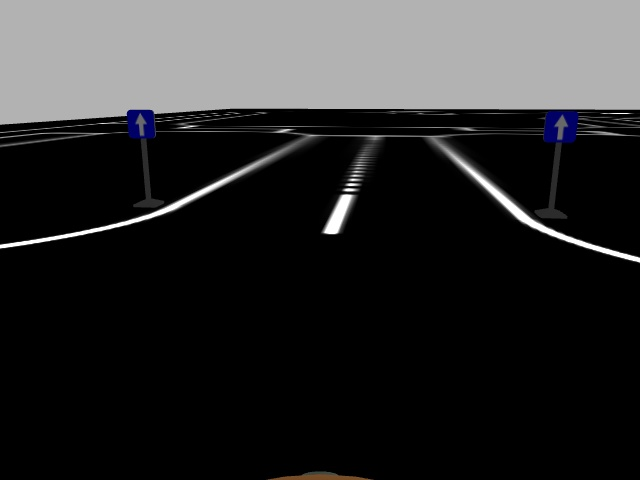oneway: (543, 107, 579, 144), (126, 107, 158, 141)
